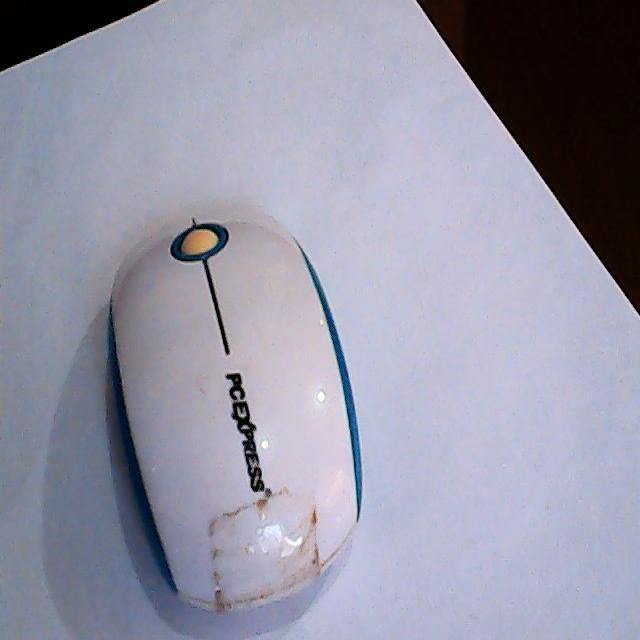Mouse: (106, 202, 365, 618)
